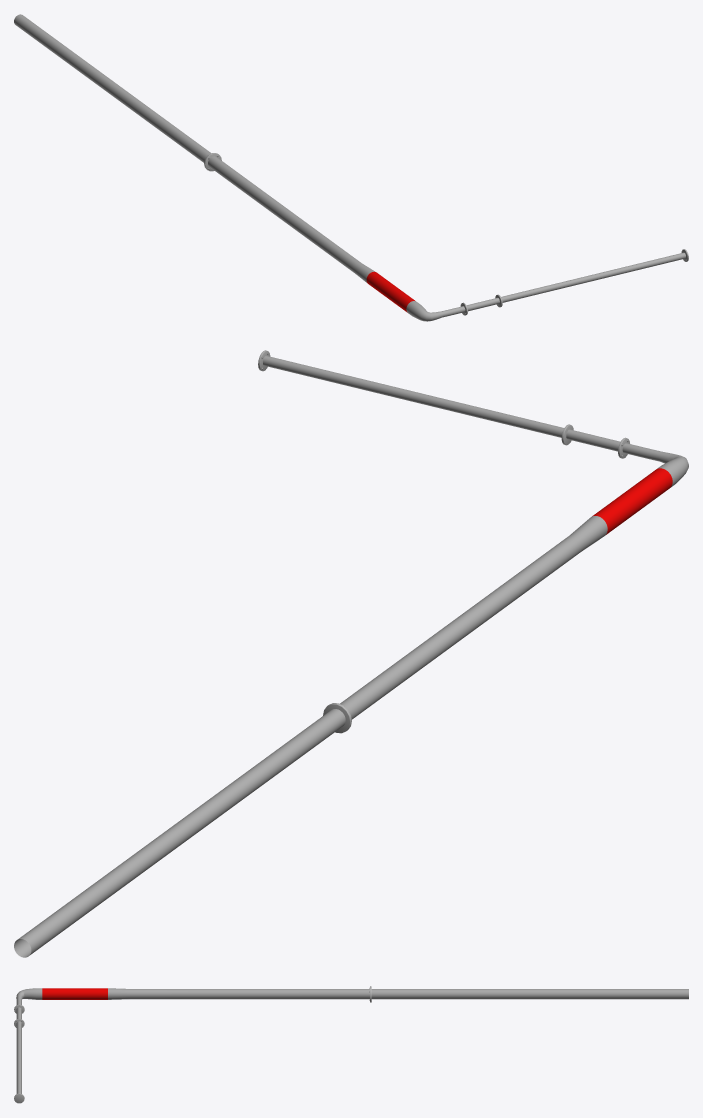
The model's file is corridor_pipes.fbx.
The picture shows the model from 3 angles, top to bottom: view 1: azimuth 30°, elevation 25°; view 2: azimuth 150°, elevation 25°; view 3: azimuth 270°, elevation 25°; orthographic projection. The views are drawn at different scales.
Visible parts, largest first — view 1: Cylinder; view 2: Cylinder; view 3: Cylinder.
Boxes of the visible parts, bbox=[...] form: Cylinder: bbox=[14, 14, 685, 321]; Cylinder: bbox=[14, 355, 688, 957]; Cylinder: bbox=[16, 988, 688, 1093].
Bounding box in the file's own units: 246 × 15.55 × 653.
